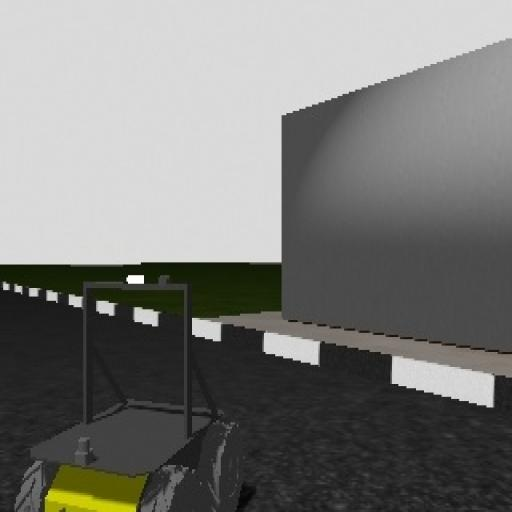huskya200: (10, 266, 244, 512)
